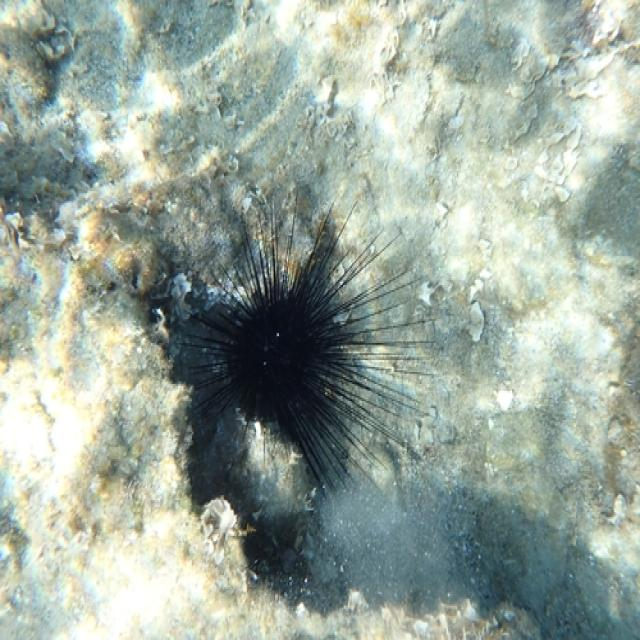Urchin: (184, 191, 439, 497)
